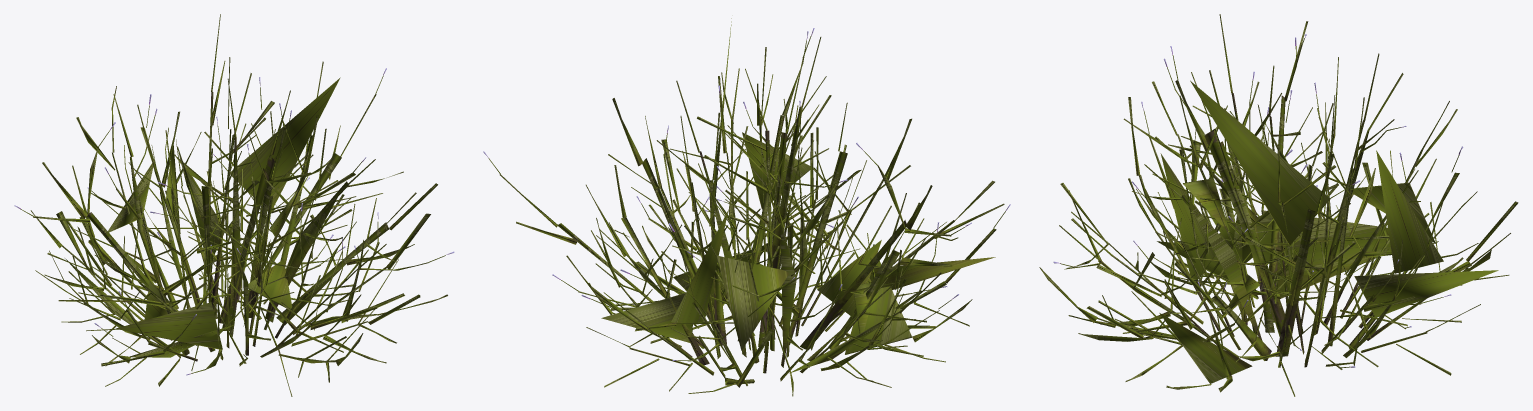
File: cargo_shrub_f_far.glb
The picture shows the model from 3 angles, left to right: view 1: azimuth 30°, elevation 25°; view 2: azimuth 150°, elevation 25°; view 3: azimuth 270°, elevation 25°; orthographic projection. The views are drawn at different scales.
Parts seen in each view (by area): view 1: KB3D_ENC_PropFlowers_C; view 2: KB3D_ENC_PropFlowers_C; view 3: KB3D_ENC_PropFlowers_C.
Boxes of the visible parts, x1,y1,x2,y2 form: KB3D_ENC_PropFlowers_C: [14, 14, 454, 396]; KB3D_ENC_PropFlowers_C: [483, 18, 1010, 396]; KB3D_ENC_PropFlowers_C: [1039, 14, 1518, 396].
Bounding box in the file's own units: 1.52 × 0.9852 × 1.38.
2 materials, 2 textured.
